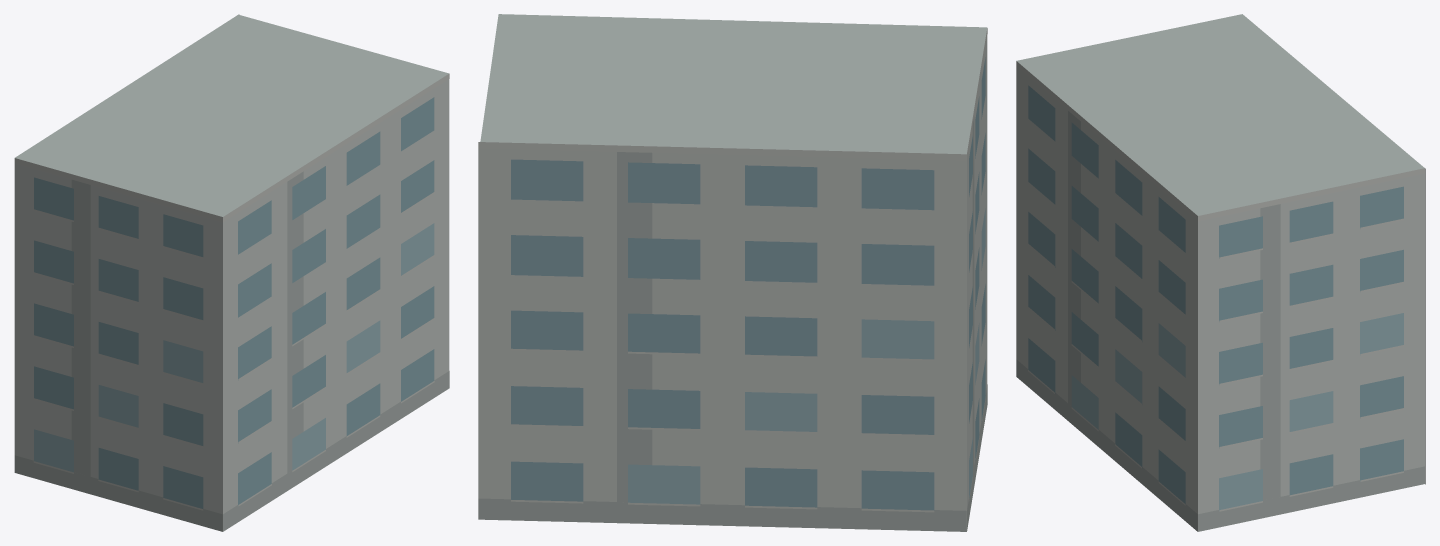
File: survey-upis-32891465.glb
The picture shows the model from 3 angles, left to right: view 1: azimuth 30°, elevation 25°; view 2: azimuth 150°, elevation 25°; view 3: azimuth 270°, elevation 25°; orthographic projection. The views are drawn at different scales.
Parts seen in each view (by area): view 1: survey-upis-32891465.tmp; view 2: survey-upis-32891465.tmp; view 3: survey-upis-32891465.tmp.
Boxes of the visible parts, box(x1,y1,x2,y2) form: survey-upis-32891465.tmp: box(14, 14, 449, 531); survey-upis-32891465.tmp: box(478, 14, 987, 531); survey-upis-32891465.tmp: box(1016, 14, 1425, 531).
Size of the model in its own units: 19.46 by 14.18 by 16.66.
